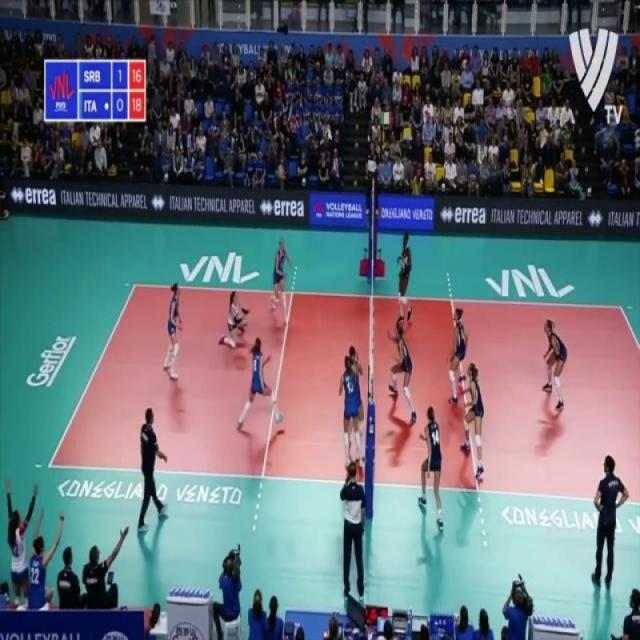volleyball: (278, 167, 284, 180)
